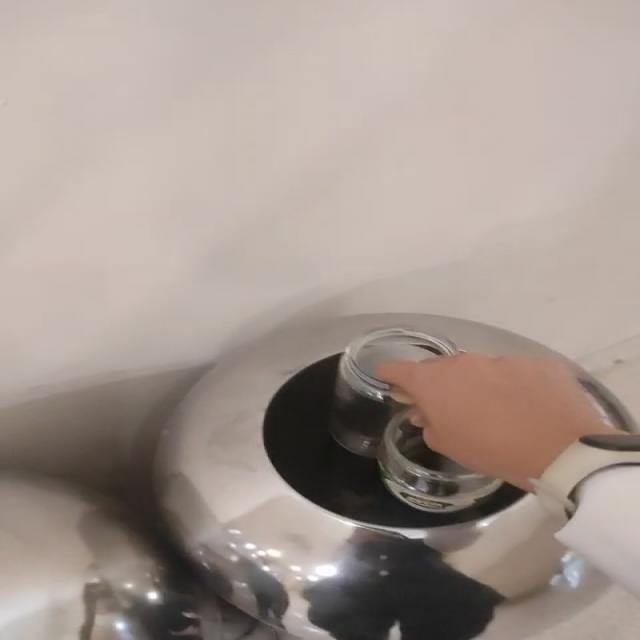glass: (329, 328, 503, 514)
